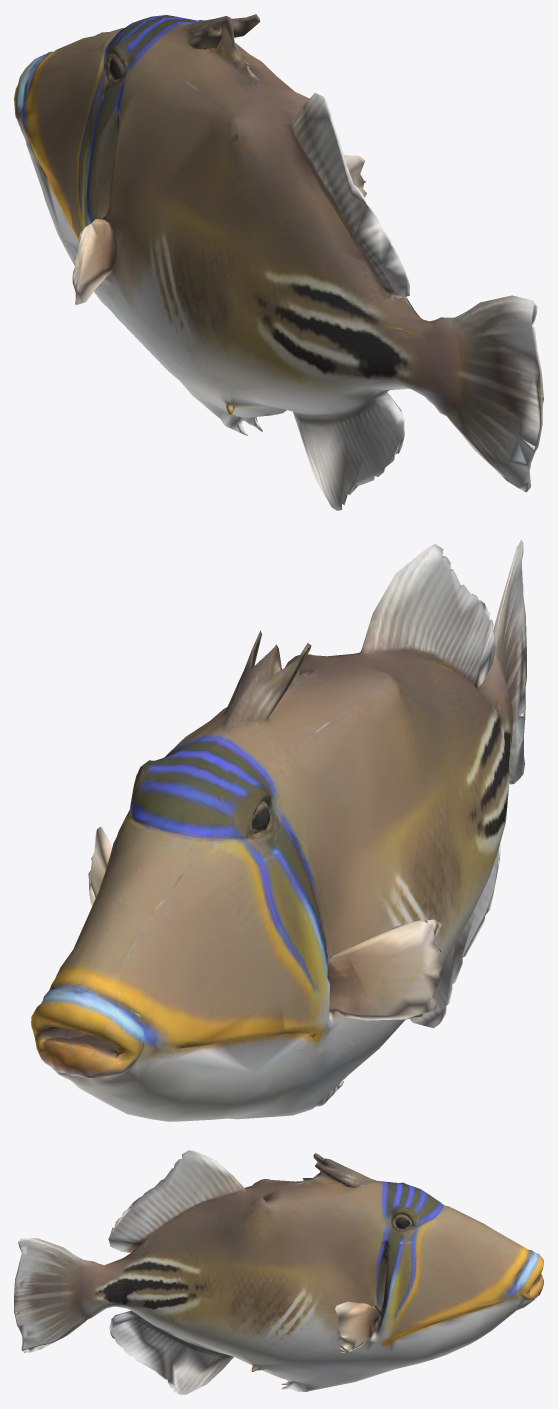
File: picasso.glb
3 renders of one model, top to bottom at view 1: azimuth 30°, elevation 25°; view 2: azimuth 150°, elevation 25°; view 3: azimuth 270°, elevation 25°, orthographic. The views are drawn at different scales.
Visible parts, largest first — view 1: tripo_node_fb9a2bac-9104-442f-82ff-63b52b63518c; view 2: tripo_node_fb9a2bac-9104-442f-82ff-63b52b63518c; view 3: tripo_node_fb9a2bac-9104-442f-82ff-63b52b63518c.
Boxes of the visible parts, left/top/right/bottom form: tripo_node_fb9a2bac-9104-442f-82ff-63b52b63518c: left=14, top=14, right=543, bottom=510; tripo_node_fb9a2bac-9104-442f-82ff-63b52b63518c: left=31, top=539, right=526, bottom=1121; tripo_node_fb9a2bac-9104-442f-82ff-63b52b63518c: left=14, top=1150, right=543, bottom=1394.
Bounding box in the file's own units: 0.2282 × 0.3 × 0.5919.
Materials: 1 (1 with a texture image).
